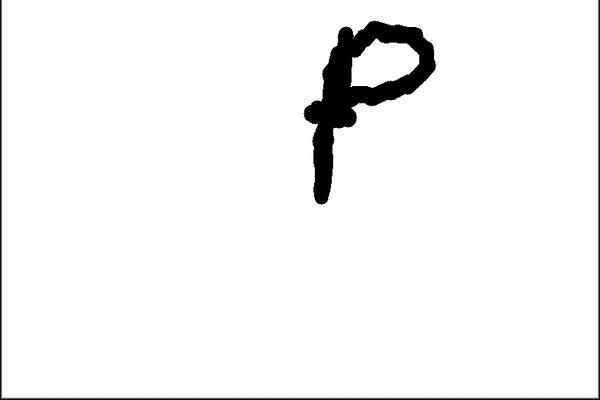P: (300, 11, 439, 218)
